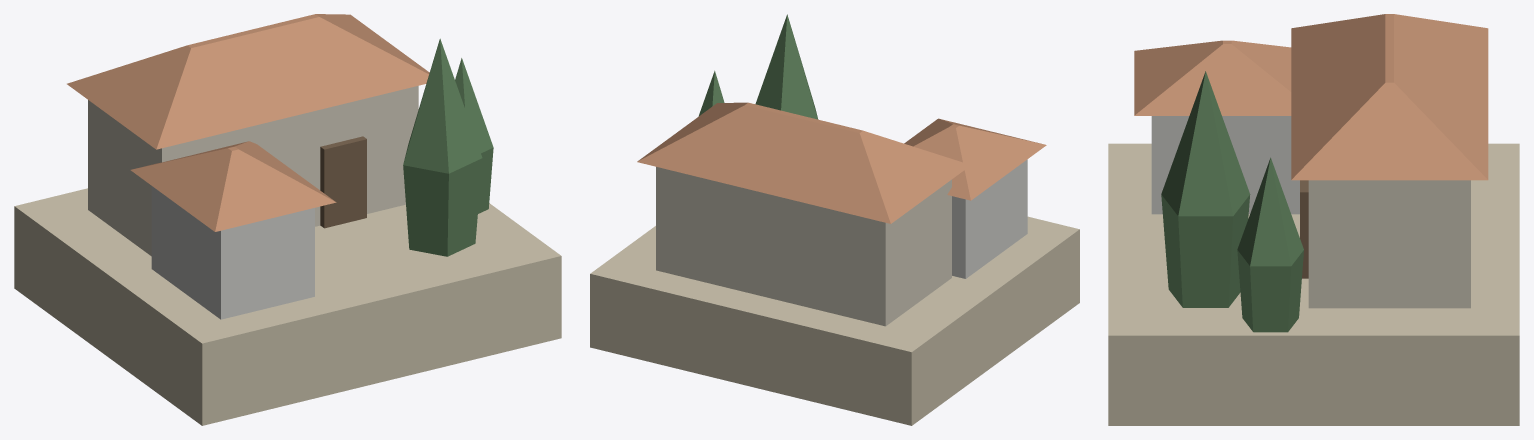
The model's file is house-classical-0.glb.
3 renders of one model, left to right at view 1: azimuth 30°, elevation 25°; view 2: azimuth 150°, elevation 25°; view 3: azimuth 270°, elevation 25°, orthographic. The views are drawn at different scales.
Parts seen in each view (by area): view 1: LOD0; view 2: LOD0; view 3: LOD0.
Boxes of the visible parts, x1=… form: LOD0: x1=14, y1=14, x2=561, y2=425; LOD0: x1=590, y1=14, x2=1079, y2=425; LOD0: x1=1108, y1=14, x2=1519, y2=425.
Size of what is drawn, in the model's own units: 0.21 by 0.16 by 0.19.
